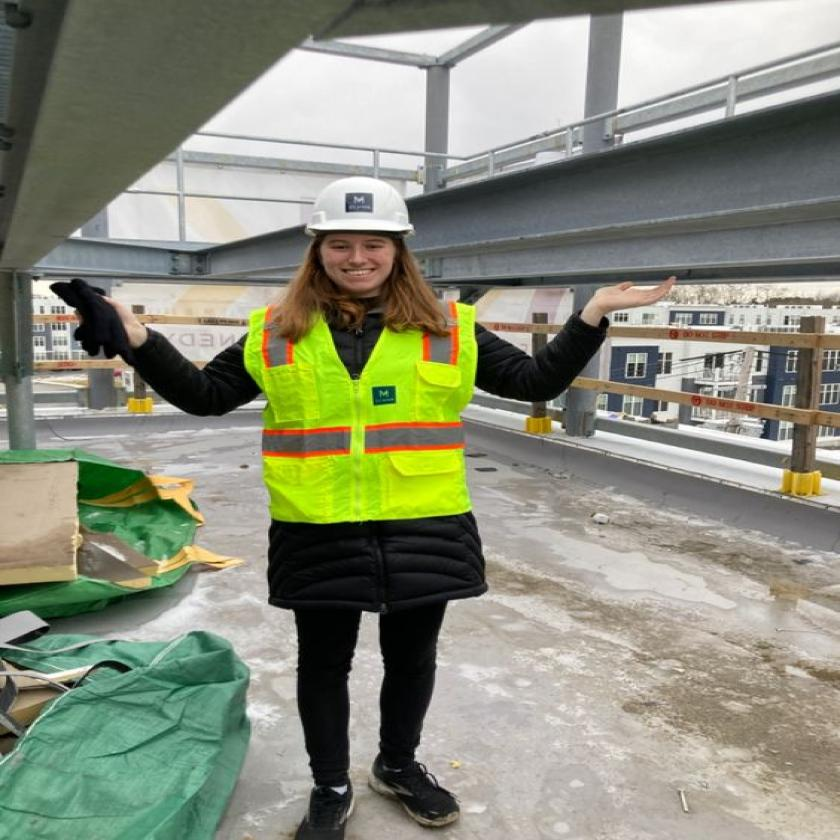Con_casco: (299, 170, 432, 320)
